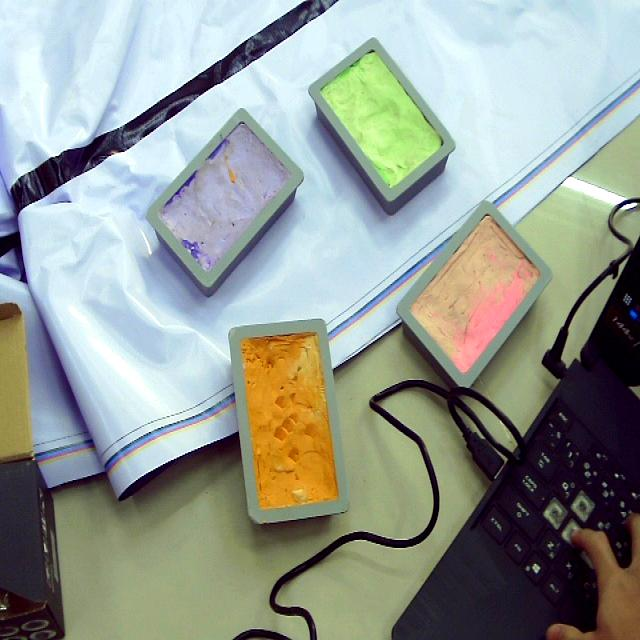block: (392, 200, 554, 394), (143, 108, 302, 298), (306, 34, 455, 212), (227, 320, 348, 525)
